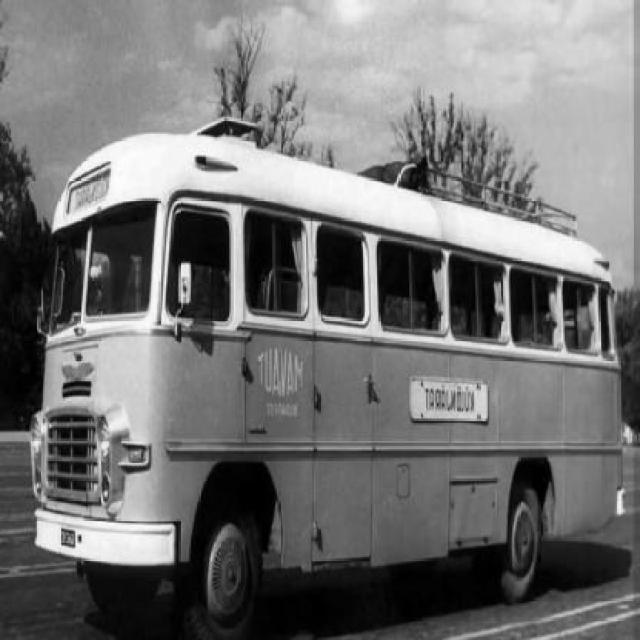bus: (33, 131, 624, 631)
